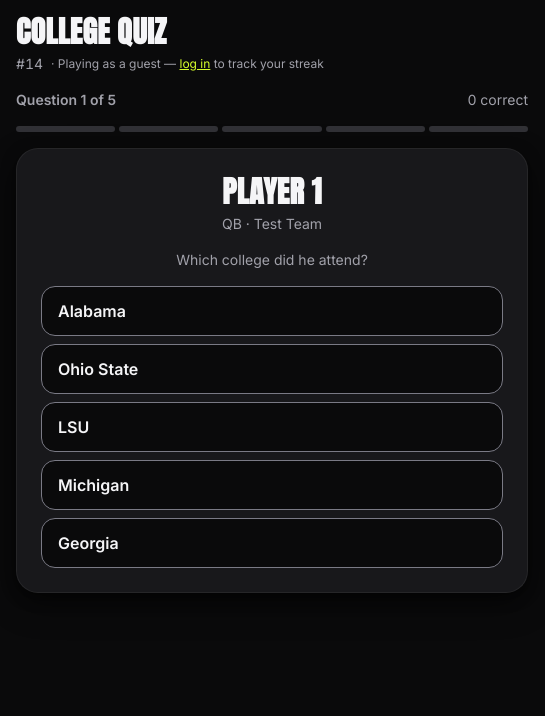
Test: CollegeQuizScreen — playing logged out › resumes a half-finished guest round after a reload instead of restarting it
Click the button "Alabama".
click(92, 311)  # box [41,286,503,336]
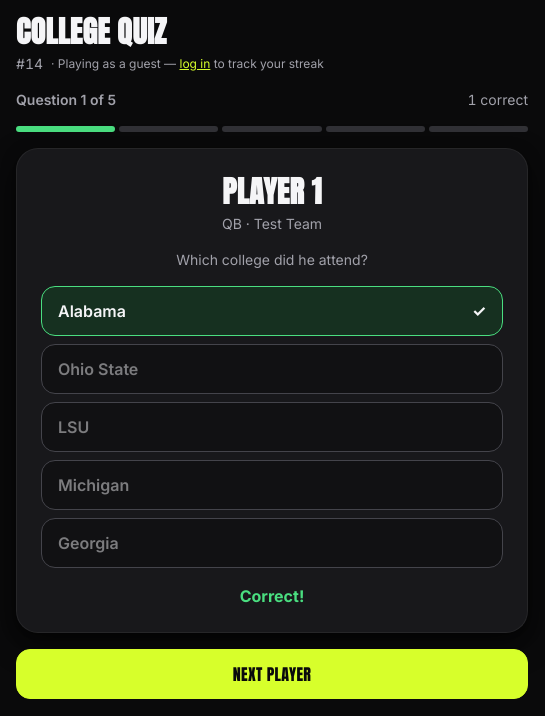
Click the button "Next player".
click(272, 674)  # box [16,649,528,699]
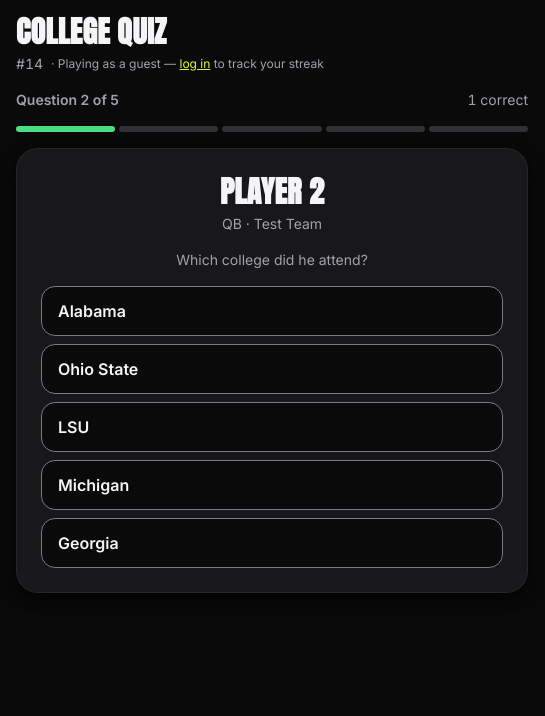
Click the button "LSU".
click(74, 427)  # box [41,402,503,452]
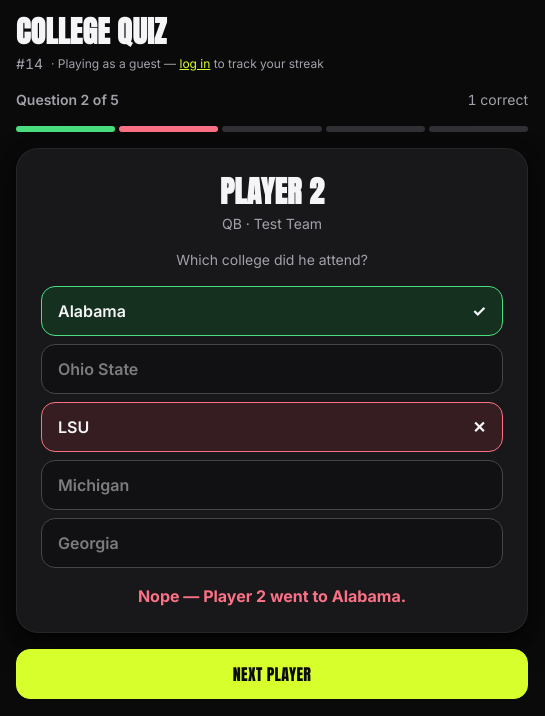
Click the button "Next player".
click(272, 674)  # box [16,649,528,699]
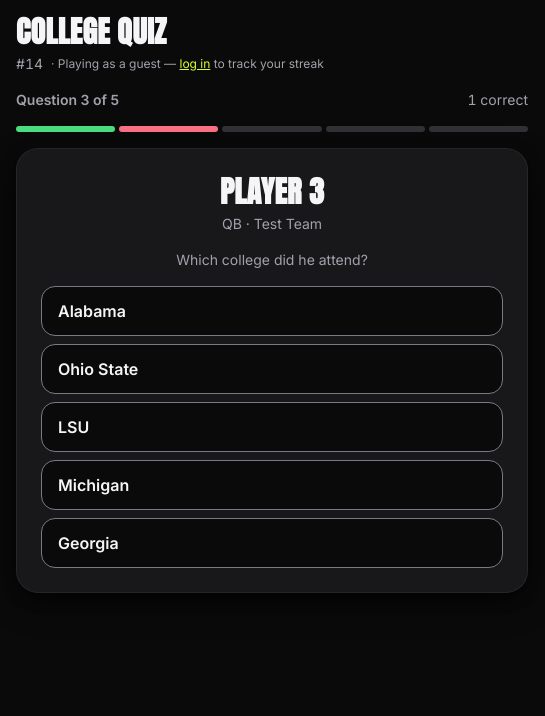
Now the heading "Player 3" is shown, box [220,173,324,210]
